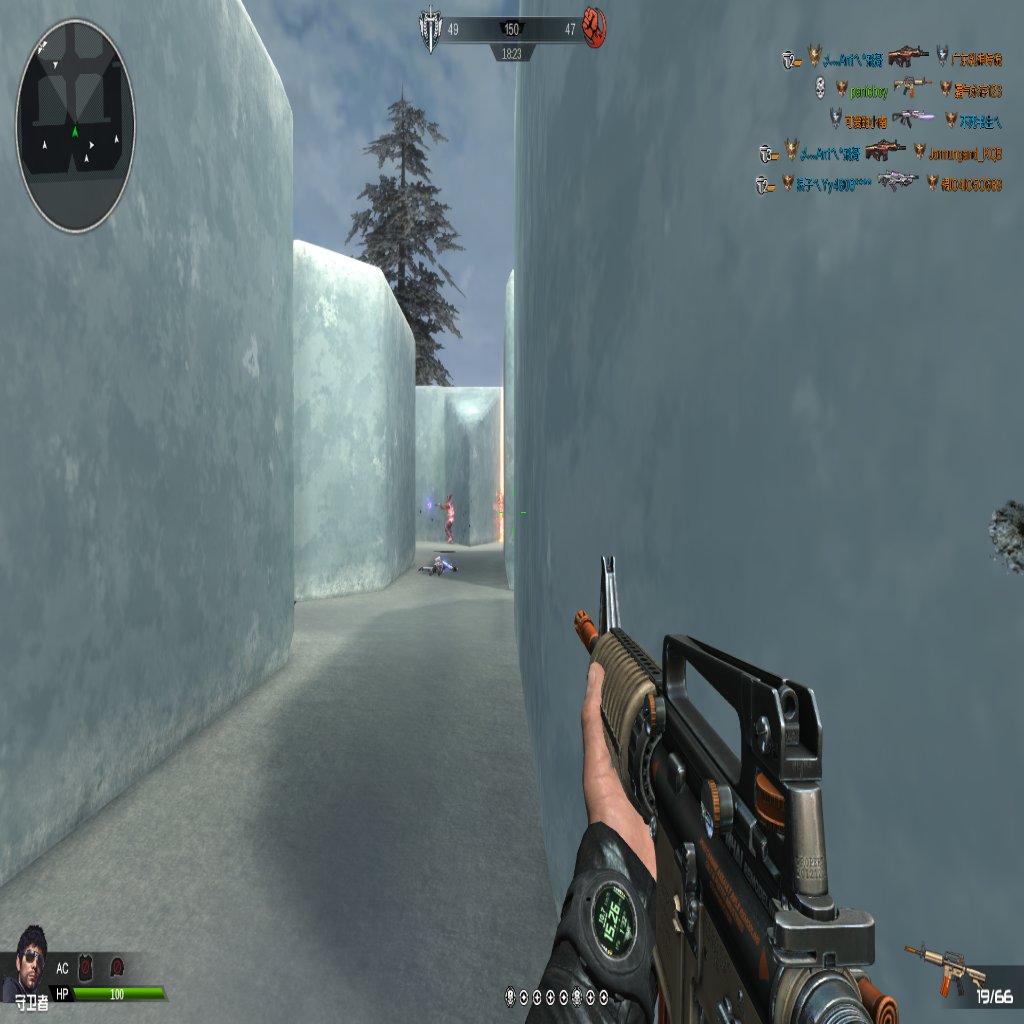tt: (442, 494, 455, 543)
